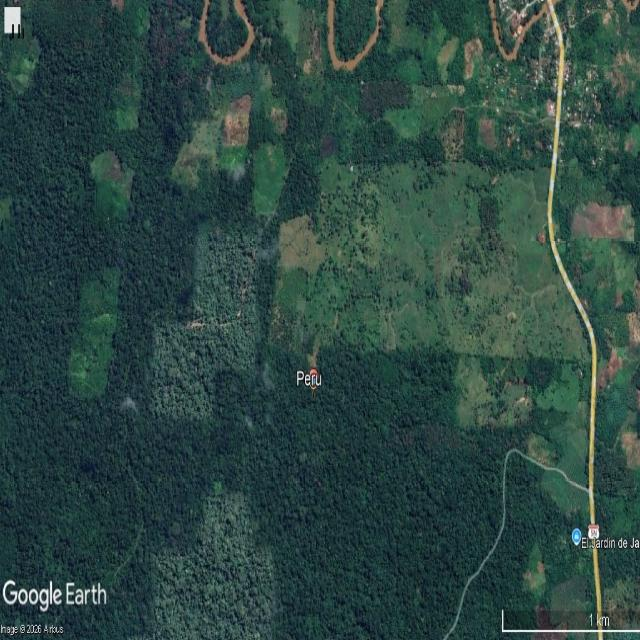objects-ruins-artifacts: (49, 30, 293, 541), (374, 32, 573, 459)
